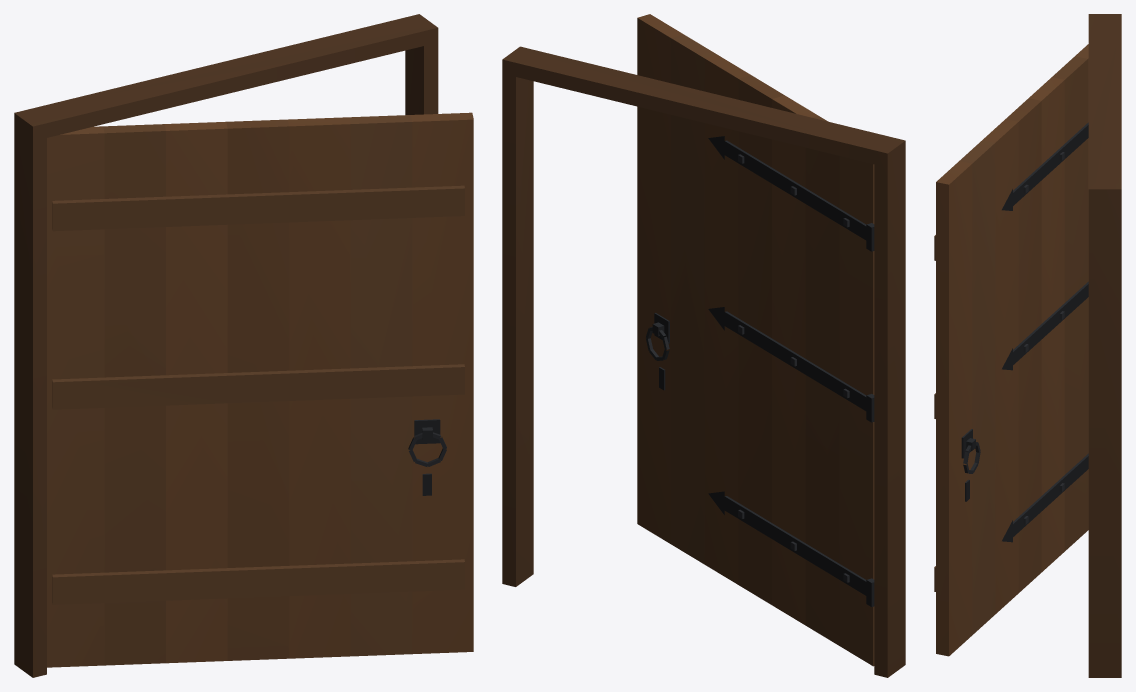
The model's file is door.oak_ajar.oak.glb.
3 renders of one model, left to right at view 1: azimuth 30°, elevation 25°; view 2: azimuth 150°, elevation 25°; view 3: azimuth 270°, elevation 25°, orthographic. The views are drawn at different scales.
Parts seen in each view (by area): view 1: door_oak_ajar_oak; view 2: door_oak_ajar_oak; view 3: door_oak_ajar_oak.
Boxes of the visible parts, <box> form: door_oak_ajar_oak: <box>14,14,473,677</box>; door_oak_ajar_oak: <box>502,14,905,677</box>; door_oak_ajar_oak: <box>934,14,1121,677</box>.
Size of what is drawn, in the model's own units: 2 by 2.6 by 0.9045.
